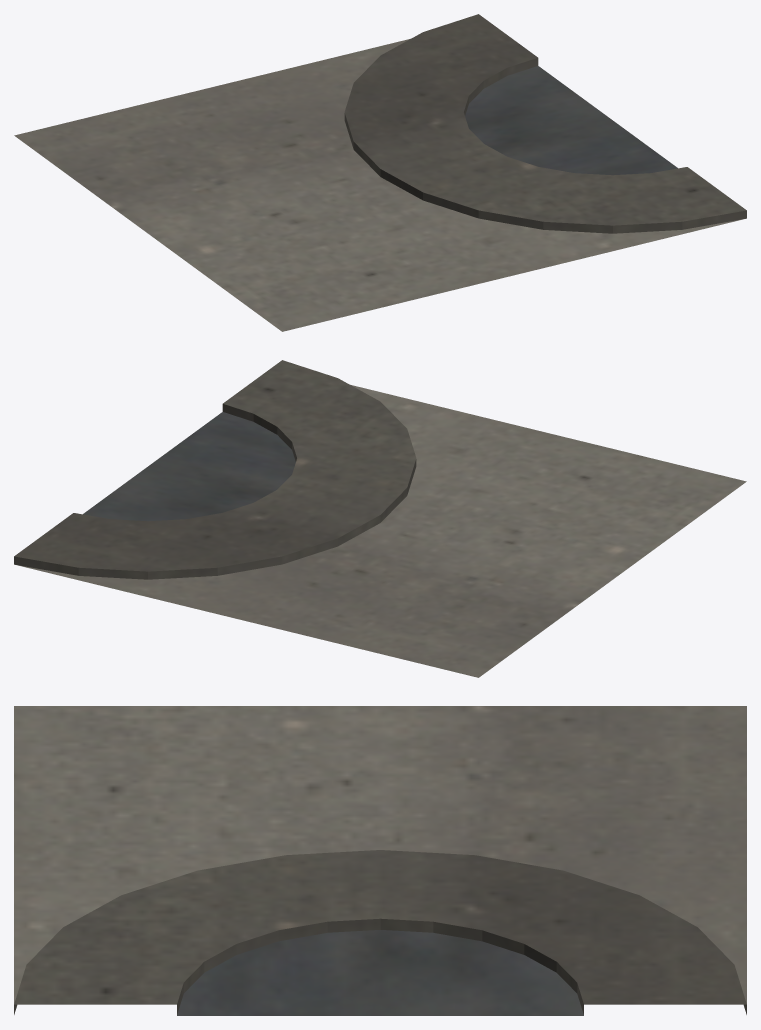
Rendered from roadEnd.fbx.
3 renders of one model, top to bottom at view 1: azimuth 30°, elevation 25°; view 2: azimuth 150°, elevation 25°; view 3: azimuth 270°, elevation 25°, orthographic. The views are drawn at different scales.
Visible parts, largest first — view 1: roadEnd; view 2: roadEnd; view 3: roadEnd.
Boxes of the visible parts, left/top/right/bottom form: roadEnd: left=14, top=14, right=746, bottom=331; roadEnd: left=14, top=360, right=746, bottom=677; roadEnd: left=14, top=706, right=746, bottom=1015.
Bounding box in the file's own units: 900 × 15 × 900.
